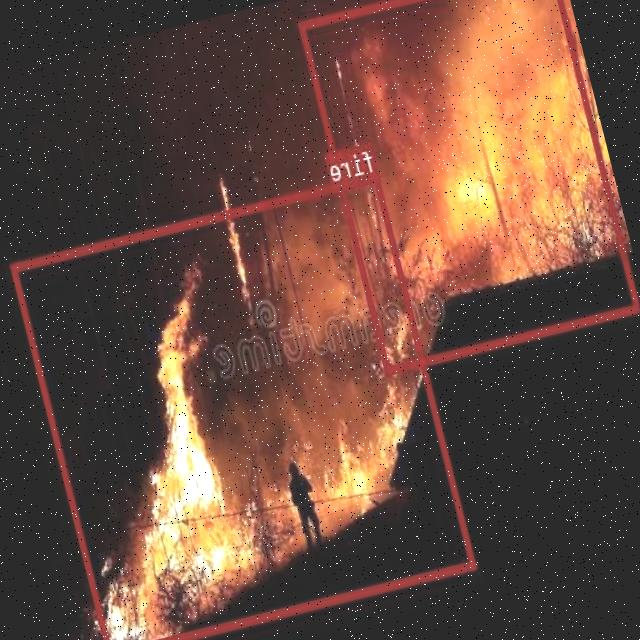fire: (10, 170, 477, 640), (299, 0, 640, 373)
